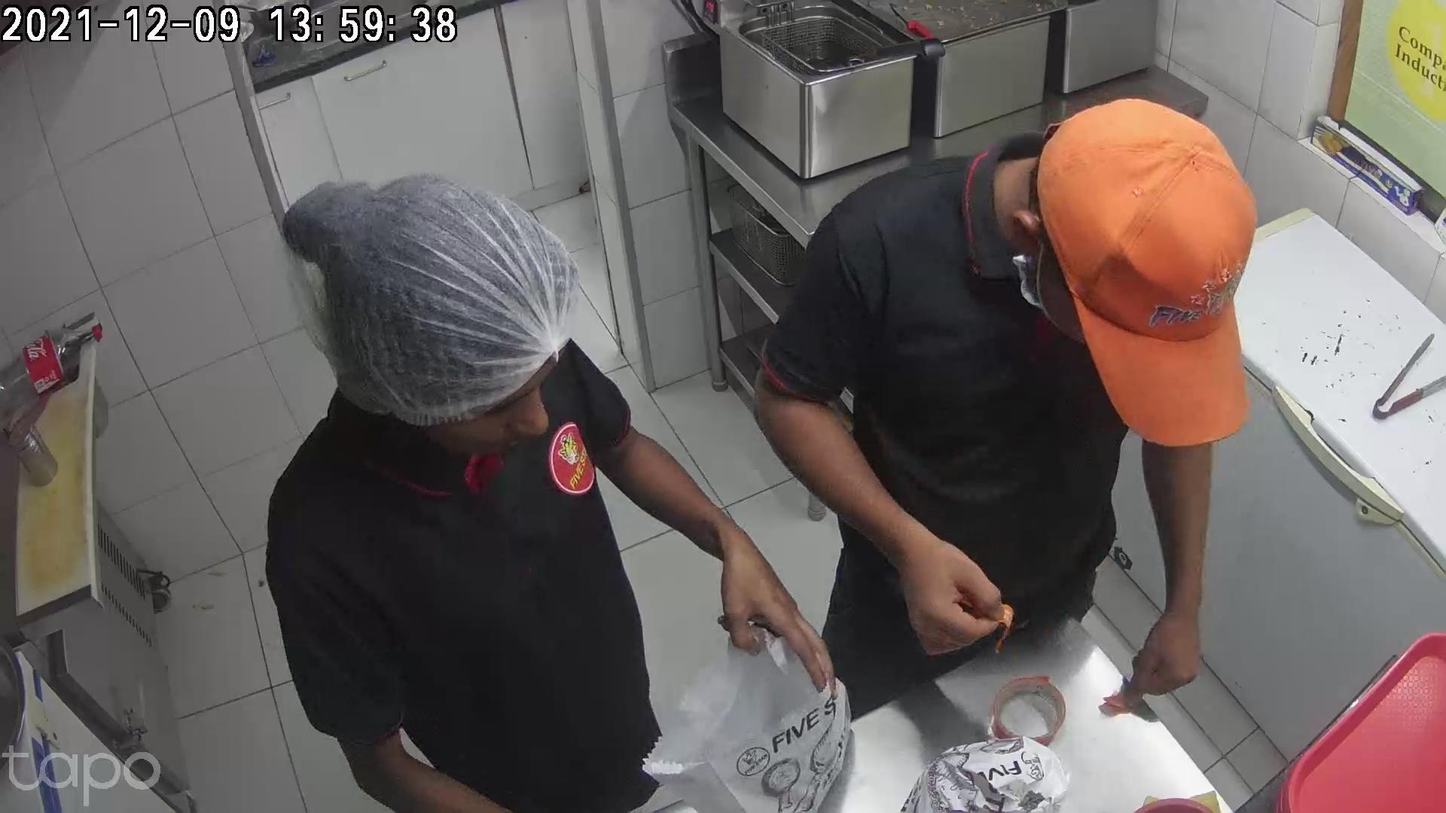no_gloves: (883, 517, 999, 656), (1132, 576, 1203, 688)
